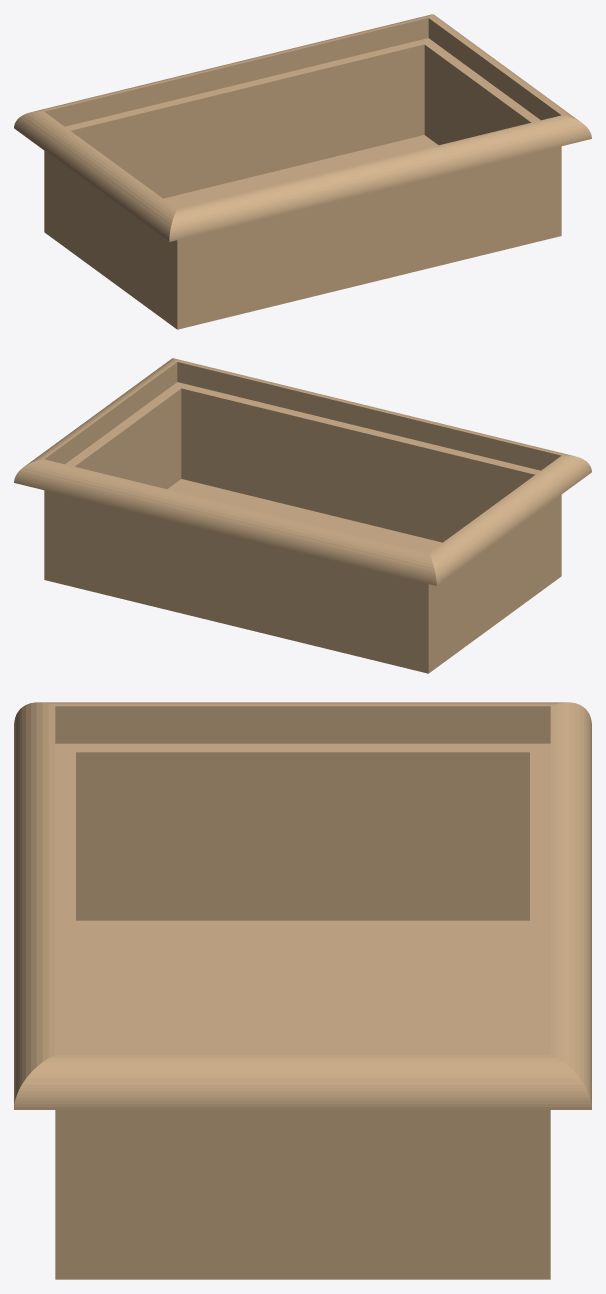
Rendered from SmallShippingBox.dae.
3 views of the same model, one above another, from view 1: azimuth 30°, elevation 25°; view 2: azimuth 150°, elevation 25°; view 3: azimuth 270°, elevation 25° (orthographic). The views are drawn at different scales.
Visible parts, largest first — view 1: IndividualBox; view 2: IndividualBox; view 3: IndividualBox.
Boxes of the visible parts, <box> form: IndividualBox: <box>14,14,591,329</box>; IndividualBox: <box>14,358,591,673</box>; IndividualBox: <box>14,702,591,1279</box>.
Bounding box in the file's own units: 0.22 × 0.14 × 0.06.
